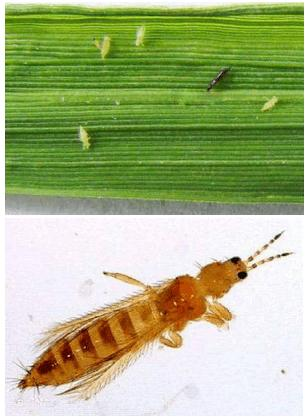Thripidae: (7, 229, 294, 406)
